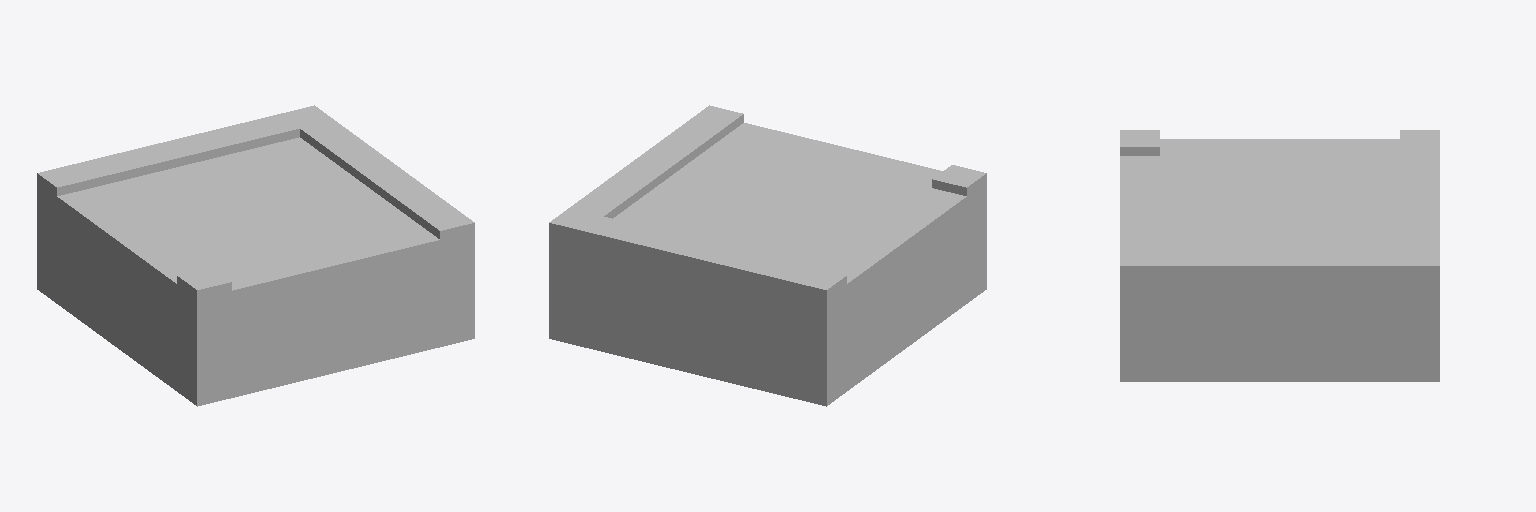
File: tile_091.obj
3 views of the same model, side by side, from view 1: azimuth 30°, elevation 25°; view 2: azimuth 150°, elevation 25°; view 3: azimuth 270°, elevation 25° (orthographic).
Visible parts, largest first — view 1: tile_091; view 2: tile_091; view 3: tile_091.
Boxes of the visible parts, x1=… form: tile_091: x1=37, y1=105, x2=474, y2=406; tile_091: x1=549, y1=105, x2=986, y2=406; tile_091: x1=1120, y1=130, x2=1439, y2=381.
Bounding box in the file's own units: 1 × 0.4 × 1.